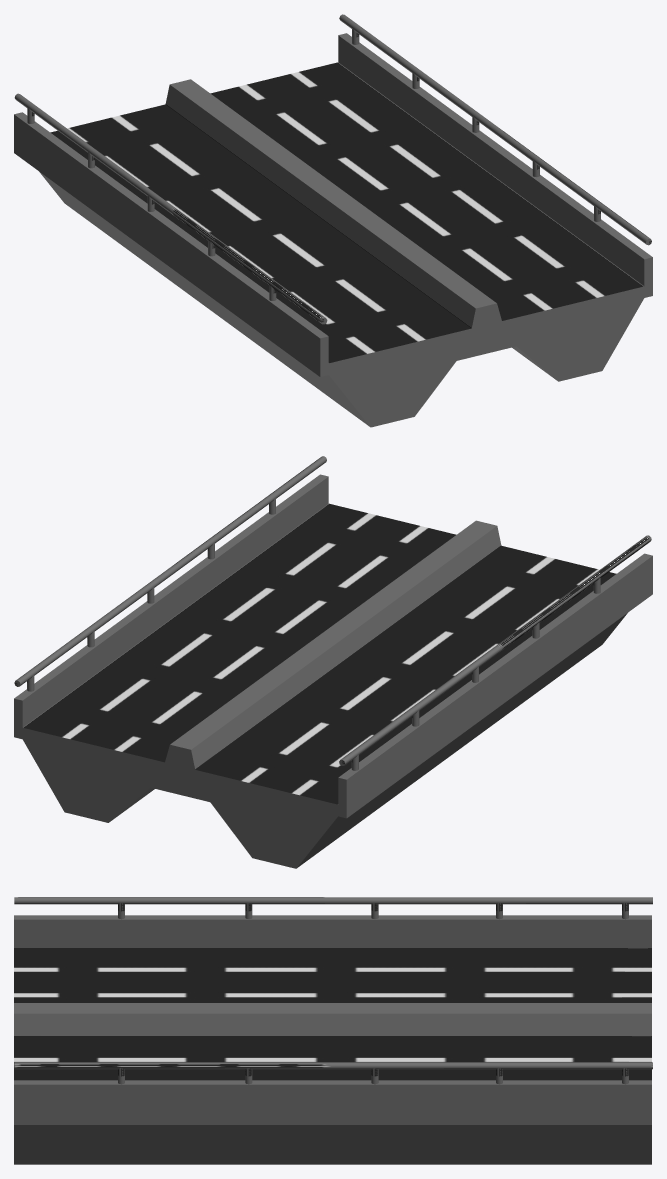
Rendered from highwaystraight.FBX.
3 renders of one model, top to bottom at view 1: azimuth 30°, elevation 25°; view 2: azimuth 150°, elevation 25°; view 3: azimuth 270°, elevation 25°, orthographic. The views are drawn at different scales.
Parts seen in each view (by area): view 1: highway; view 2: highway; view 3: highway.
Boxes of the visible parts, bbox=[...] form: highway: bbox=[14, 14, 652, 427]; highway: bbox=[14, 456, 652, 868]; highway: bbox=[14, 897, 652, 1164].
Size of the model in its own units: 9482 by 3290 by 15133.
